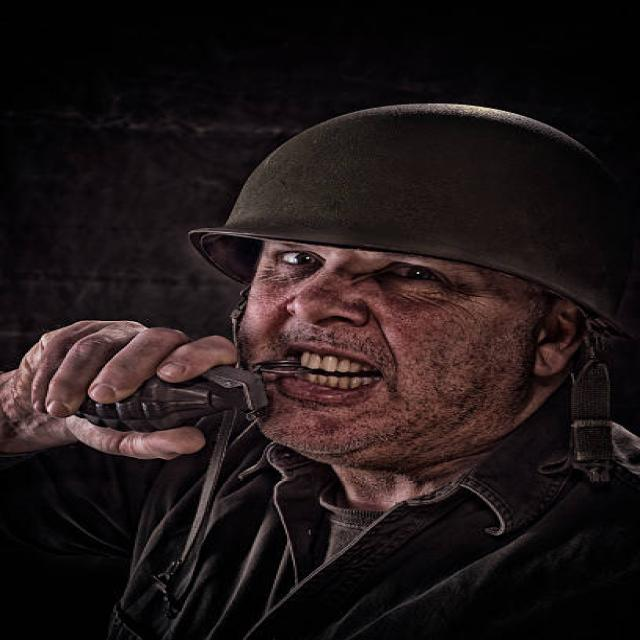grenade: (67, 360, 318, 437)
